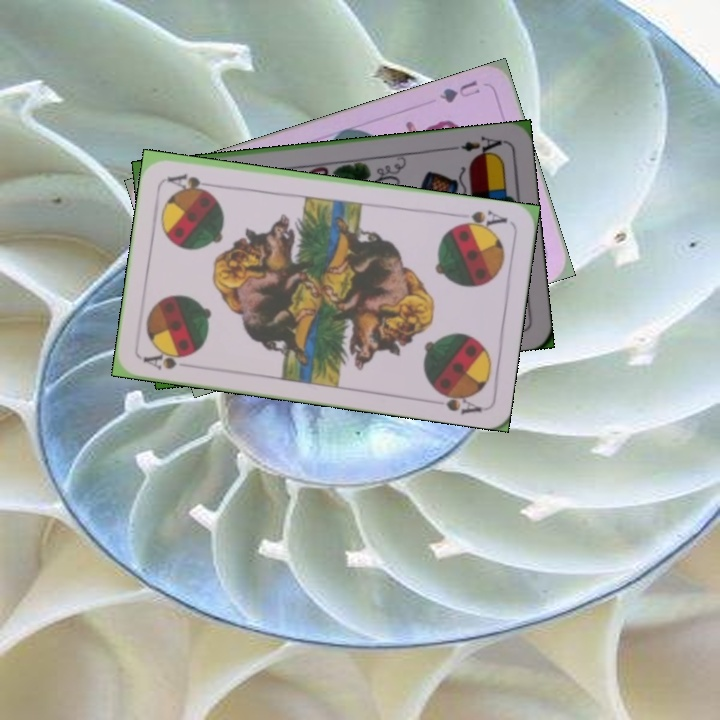EA: (457, 132, 506, 160)
GU: (435, 76, 482, 106)
SA: (451, 206, 511, 233), (139, 346, 198, 373)
